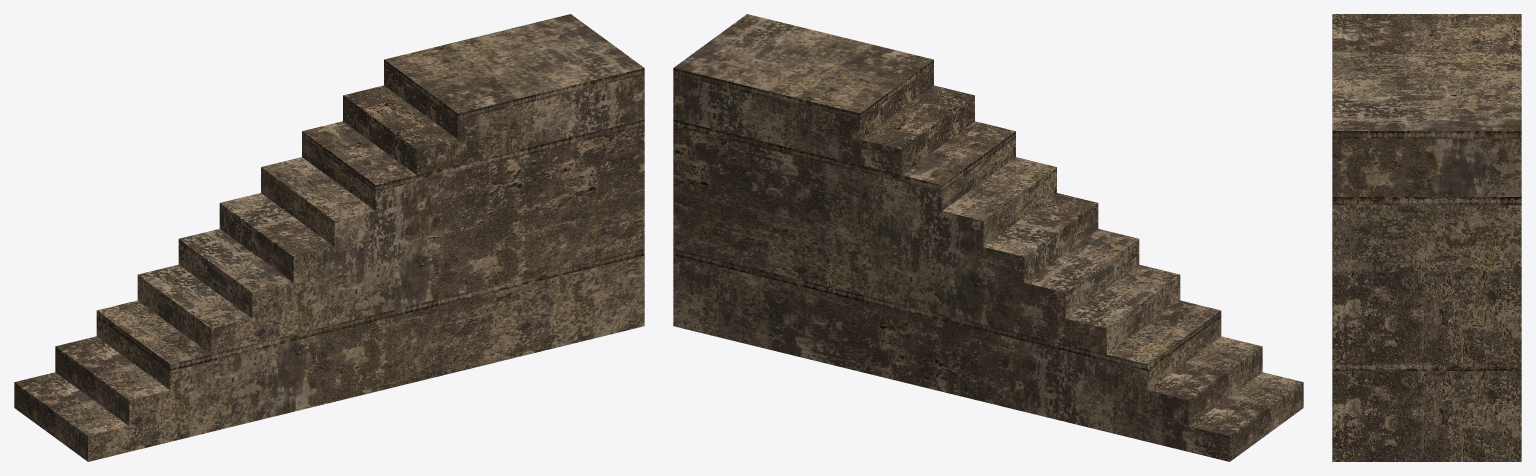
The model's file is materials_5_stairblock_8.fbx.
The picture shows the model from 3 angles, left to right: view 1: azimuth 30°, elevation 25°; view 2: azimuth 150°, elevation 25°; view 3: azimuth 270°, elevation 25°; orthographic projection. The views are drawn at different scales.
Visible parts, largest first — view 1: materials_5_stairblock_8; view 2: materials_5_stairblock_8; view 3: materials_5_stairblock_8.
Part boxes in pixels (x1,y1,x2,y2): materials_5_stairblock_8: [14, 14, 644, 461]; materials_5_stairblock_8: [673, 14, 1303, 461]; materials_5_stairblock_8: [1332, 14, 1521, 461].
Bounding box in the file's own units: 469 × 208 × 108.
